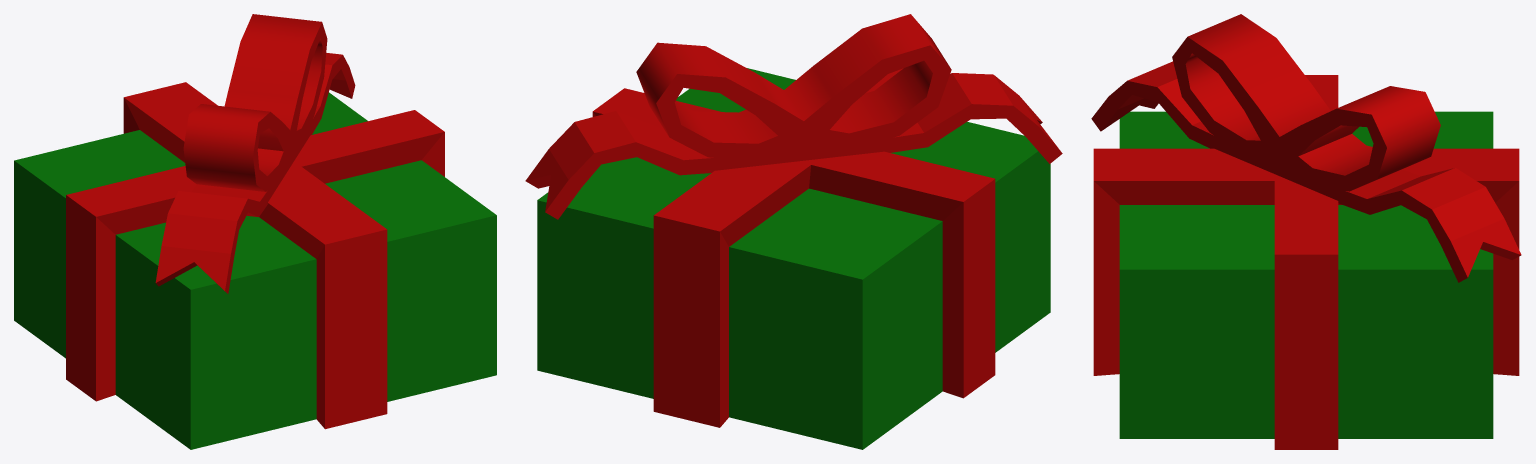
File: Presents10.fbx
3 views of the same model, side by side, from view 1: azimuth 30°, elevation 25°; view 2: azimuth 150°, elevation 25°; view 3: azimuth 270°, elevation 25° (orthographic). The views are drawn at different scales.
Parts seen in each view (by area): view 1: Present10; view 2: Present10; view 3: Present10.
Part boxes in pixels (<box>): Present10: <box>14,14,496,449</box>; Present10: <box>525,14,1062,449</box>; Present10: <box>1091,14,1521,449</box>.
Size of the model in its own units: 46.08 by 34.94 by 46.08.
